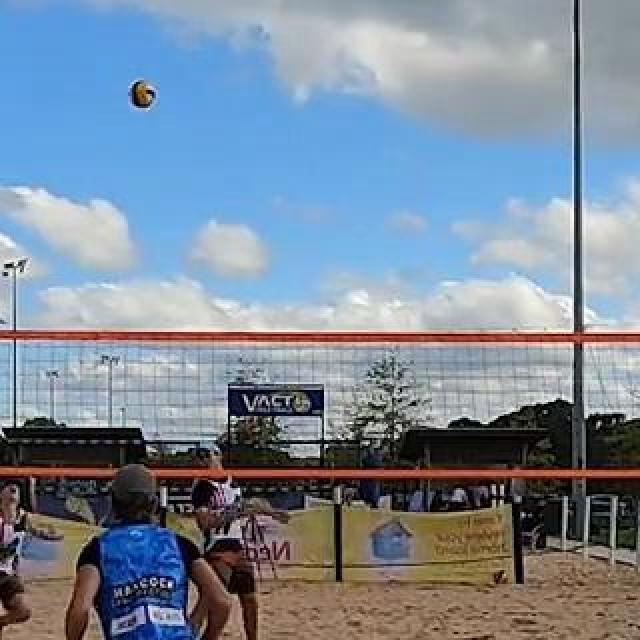volleyball: (129, 83, 157, 109), (492, 569, 510, 585)
